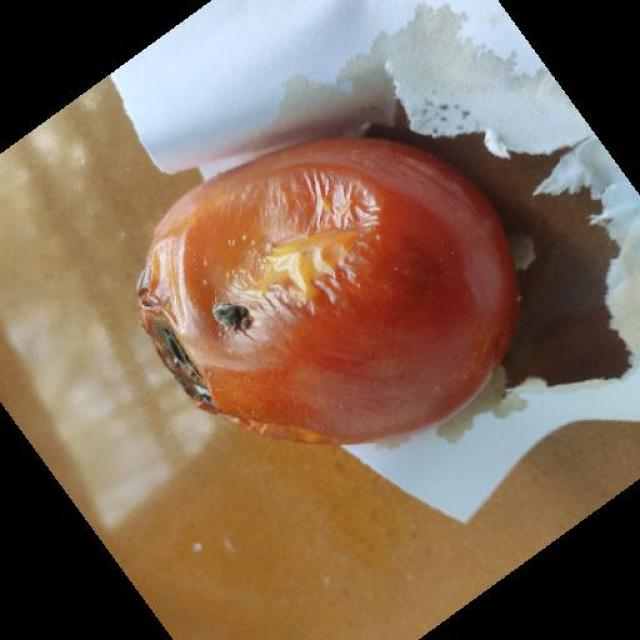Stale_tomato: (122, 168, 499, 423)
